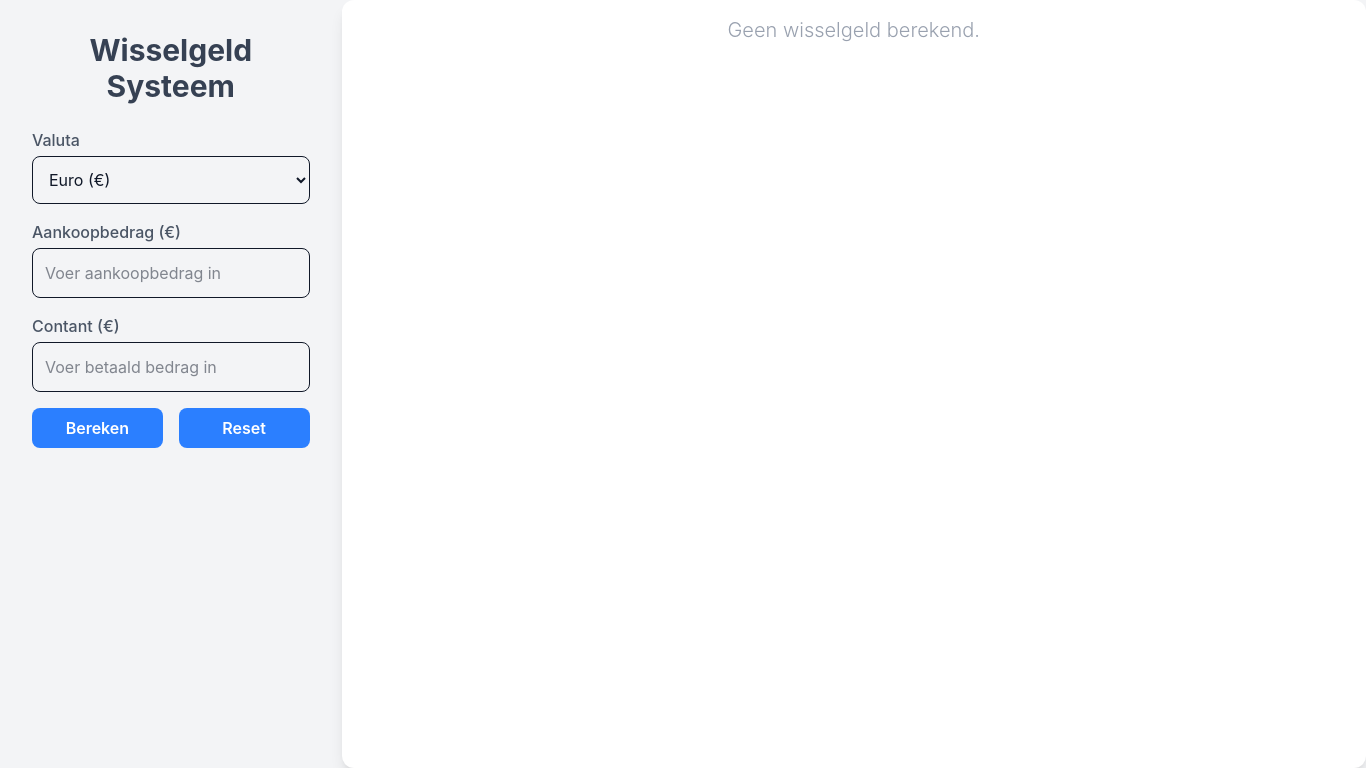
Test: CashRegister Component › 4. Resets input fields when the Reset button is clicked
Step 1. Type "10" into the number field with placeholder "Voer aankoopbedrag in" → (171, 273), box [32,248,310,298]
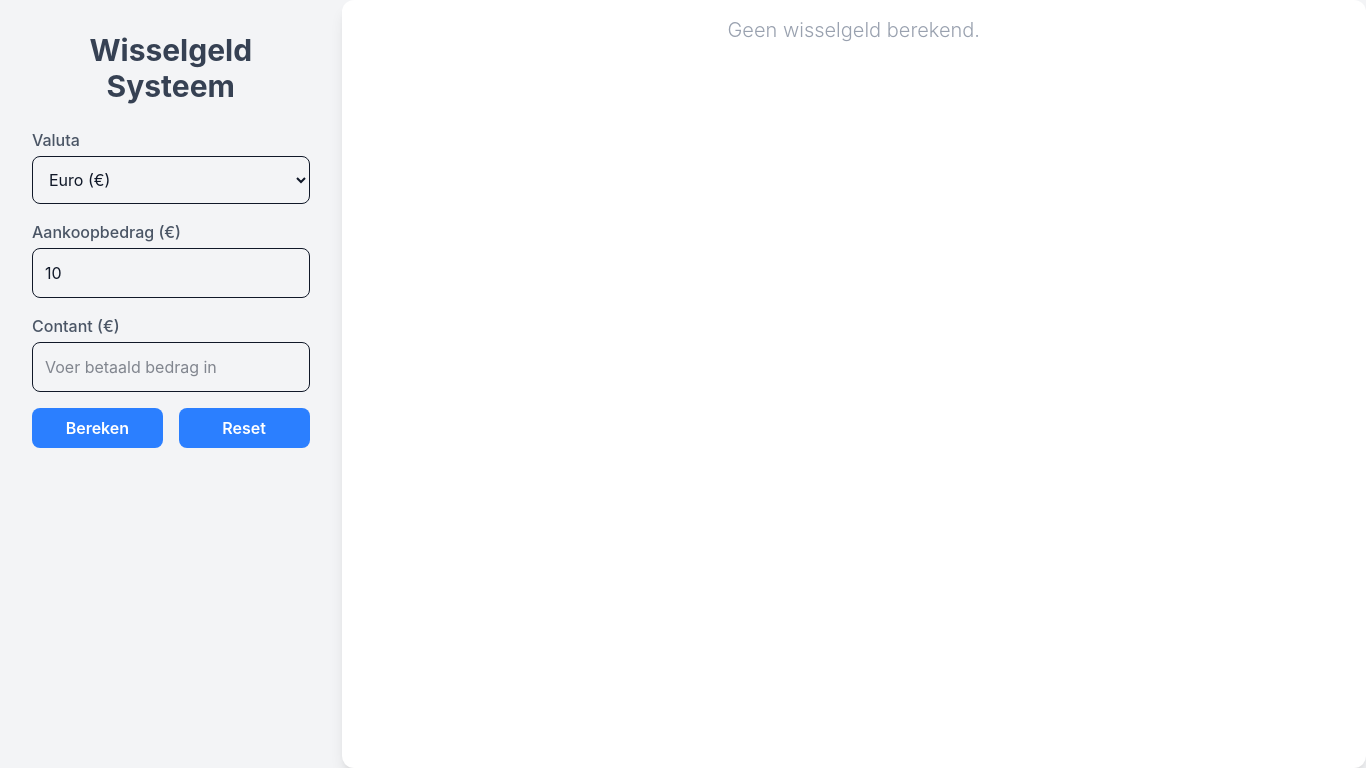
Step 2. Type "15" into the number field with placeholder "Voer betaald bedrag in" → (171, 367), box [32,342,310,392]
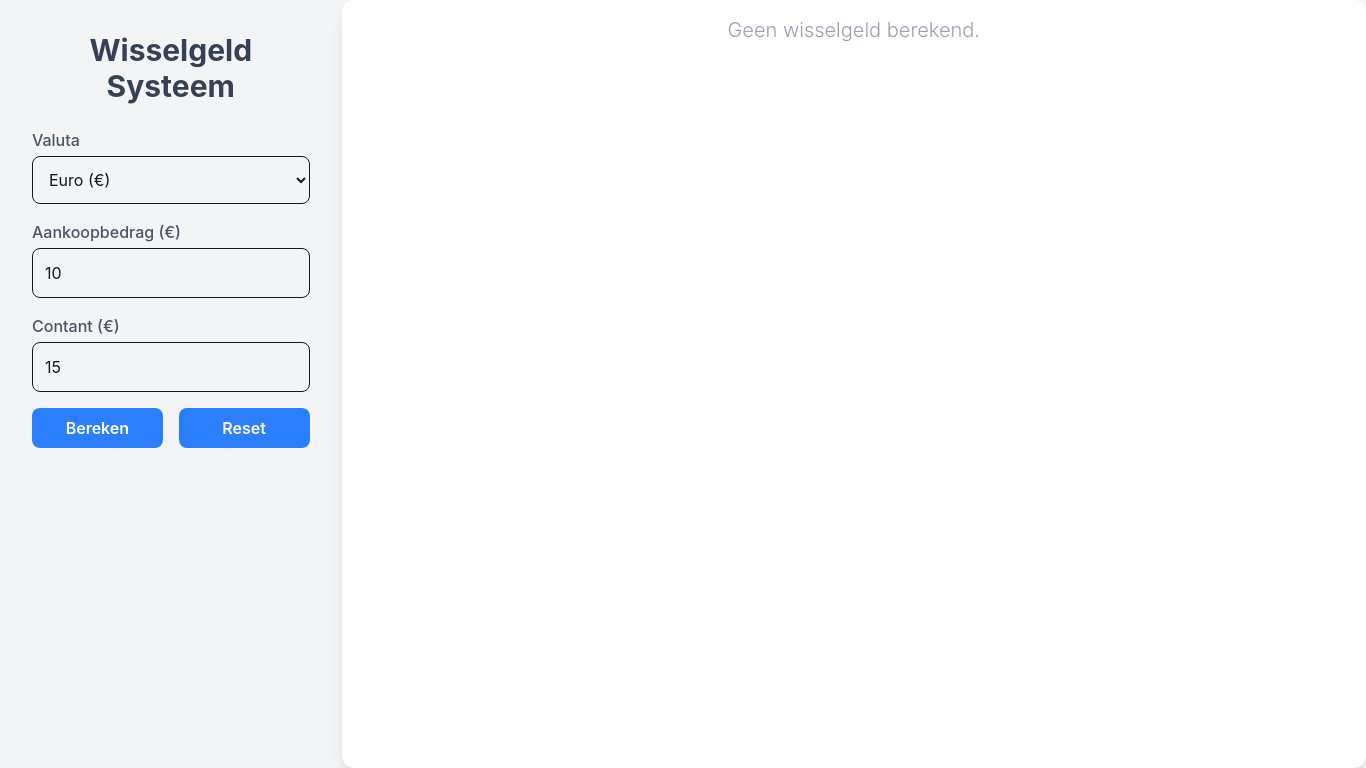
Step 3. Click the button "Reset" → (244, 428), box [179,408,310,448]
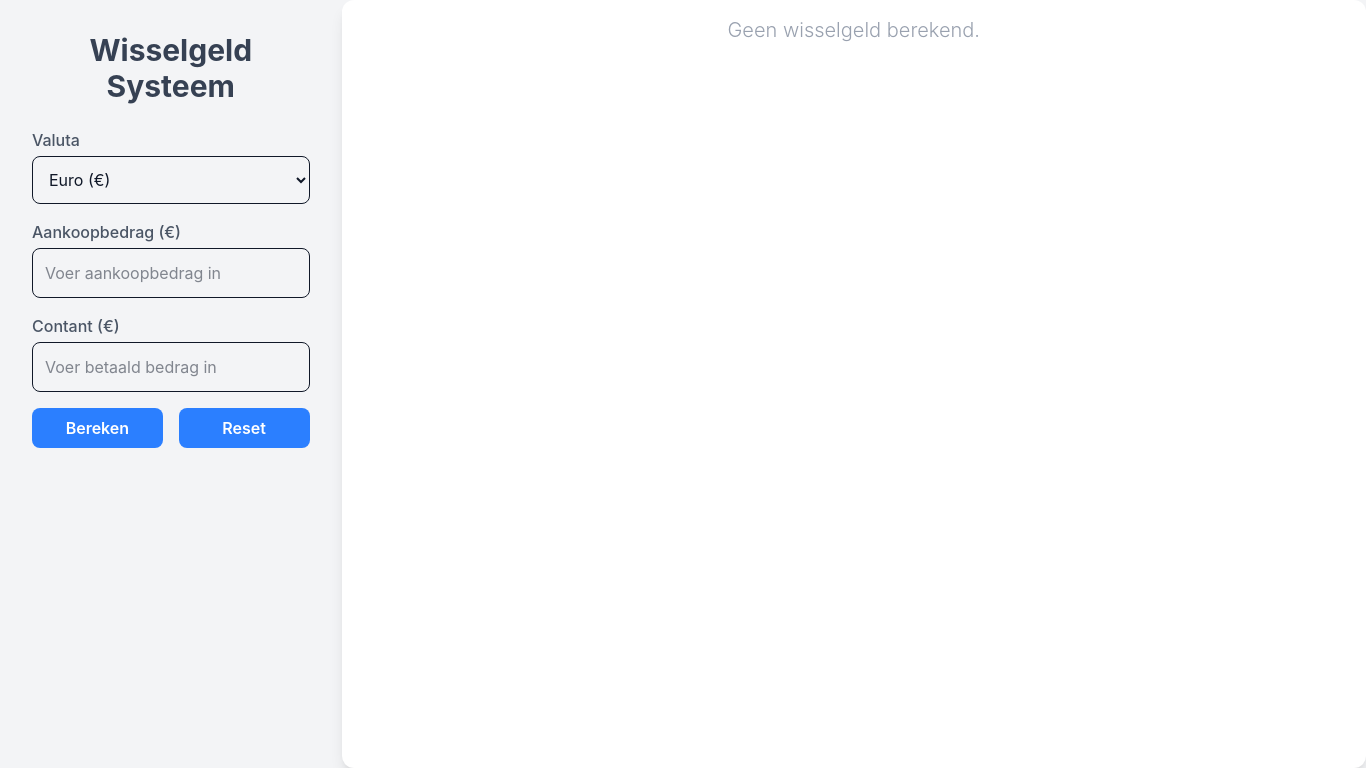
Now the number field with placeholder "Voer aankoopbedrag in" is not empty, box [32,248,310,298]
Now the number field with placeholder "Voer betaald bedrag in" is not empty, box [32,342,310,392]
